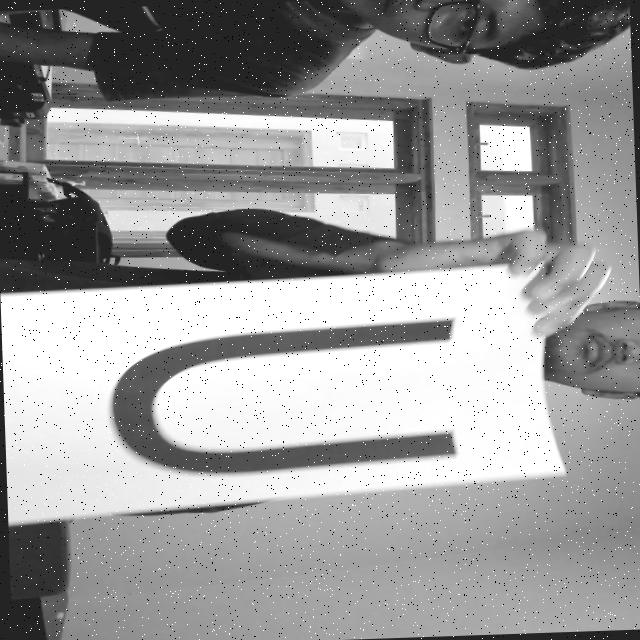u: (70, 296, 480, 502)
